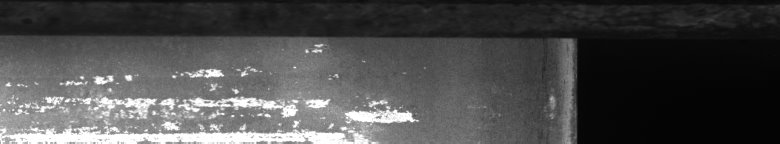kb: (4, 32, 457, 136)
